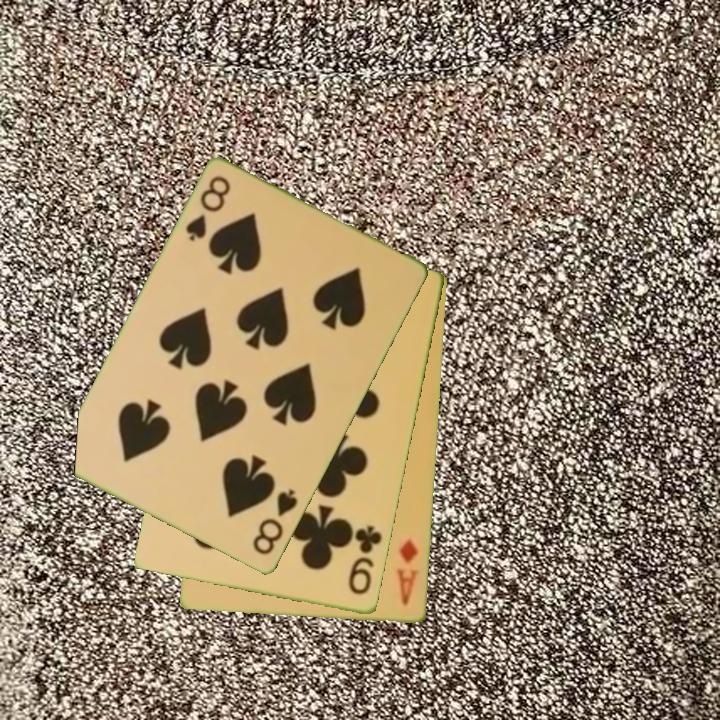8s: (249, 485, 301, 559), (182, 172, 234, 245)
9c: (345, 522, 386, 598)
Ad: (394, 535, 422, 609)
